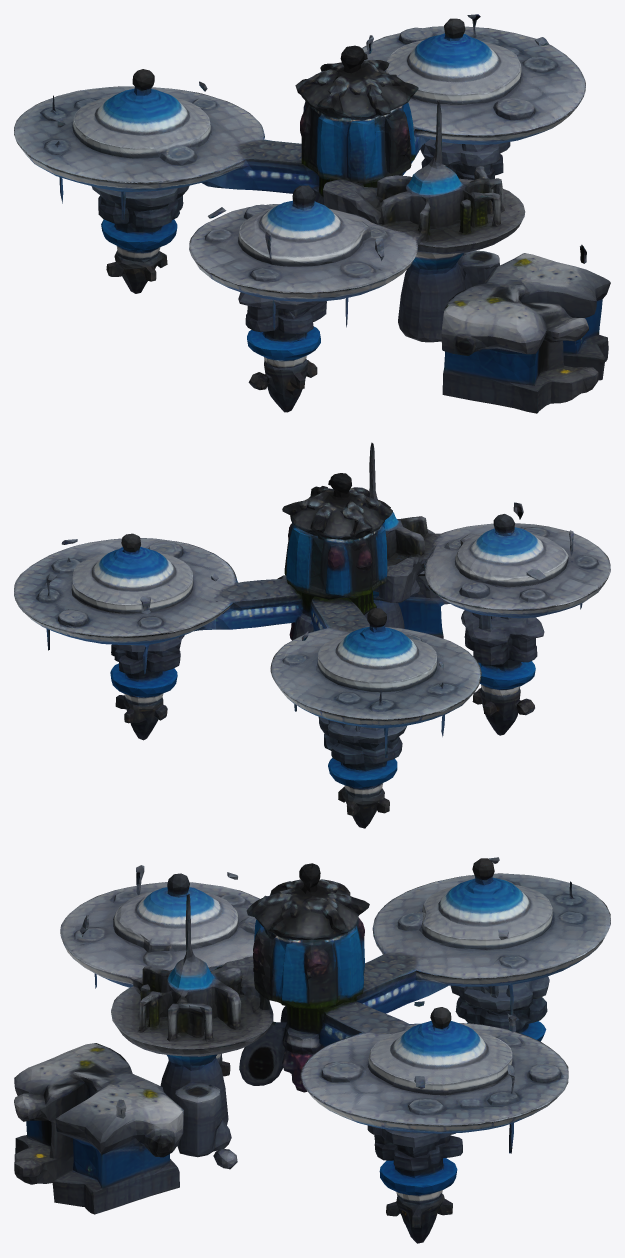
Rendered from space centre.glb.
3 renders of one model, top to bottom at view 1: azimuth 30°, elevation 25°; view 2: azimuth 150°, elevation 25°; view 3: azimuth 270°, elevation 25°, orthographic. The views are drawn at different scales.
Visible parts, largest first — view 1: world; view 2: world; view 3: world.
Part boxes in pixels (left/top/right/bottom): world: left=14, top=14, right=610, bottom=413; world: left=14, top=442, right=610, bottom=828; world: left=14, top=857, right=610, bottom=1243.
Bounding box in the file's own units: 0.998 × 0.5578 × 0.9995.
Materials: 1 (1 with a texture image).
